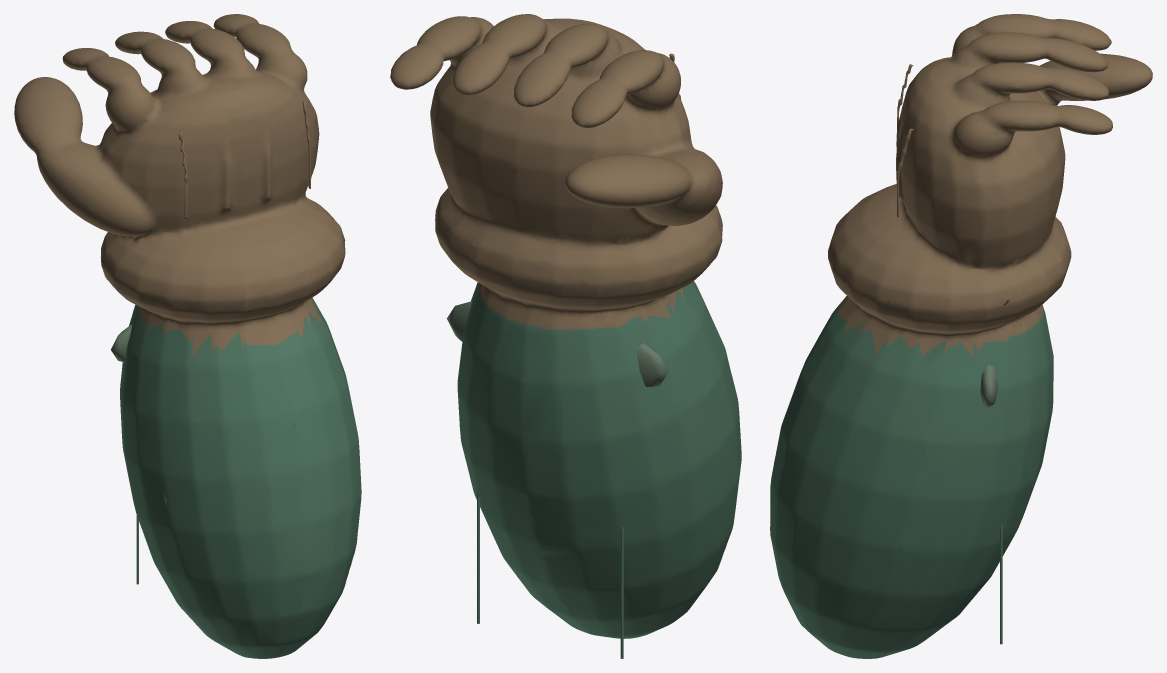
The model's file is ranger_grip_continuous.glb.
3 renders of one model, left to right at view 1: azimuth 30°, elevation 25°; view 2: azimuth 150°, elevation 25°; view 3: azimuth 270°, elevation 25°, orthographic. The views are drawn at different scales.
Parts seen in each view (by area): view 1: Continuous right glove and forearm; view 2: Continuous right glove and forearm, Cuff fastener.001, Fine cuff stitching; view 3: Continuous right glove and forearm, Cuff fastener.001.
Boxes of the visible parts, x1=… form: Continuous right glove and forearm: x1=14, y1=14, x2=361, y2=658; Continuous right glove and forearm: x1=390, y1=14, x2=741, y2=638; Cuff fastener.001: x1=446, y1=301, x2=668, y2=387; Fine cuff stitching: x1=620, y1=526, x2=623, y2=658; Continuous right glove and forearm: x1=770, y1=14, x2=1152, y2=658; Cuff fastener.001: x1=980, y1=365, x2=998, y2=407.
Bounding box in the file's own units: 0.1455 × 0.3085 × 0.1777.
